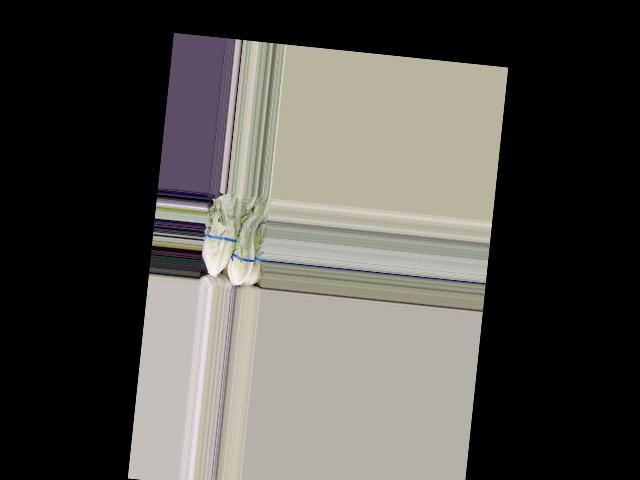lettuce: (225, 210, 265, 288)
